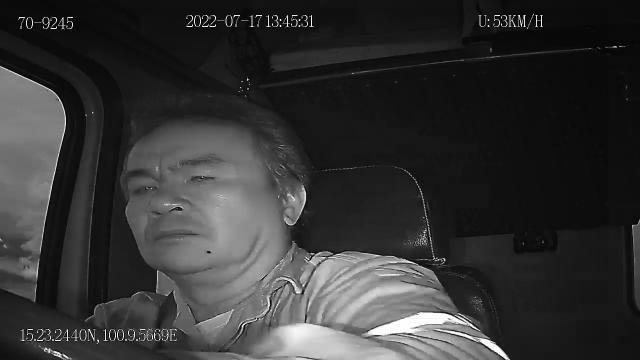SafeDriving: (180, 164, 227, 190), (123, 173, 165, 200)
Seatbelt: (152, 288, 194, 352)
